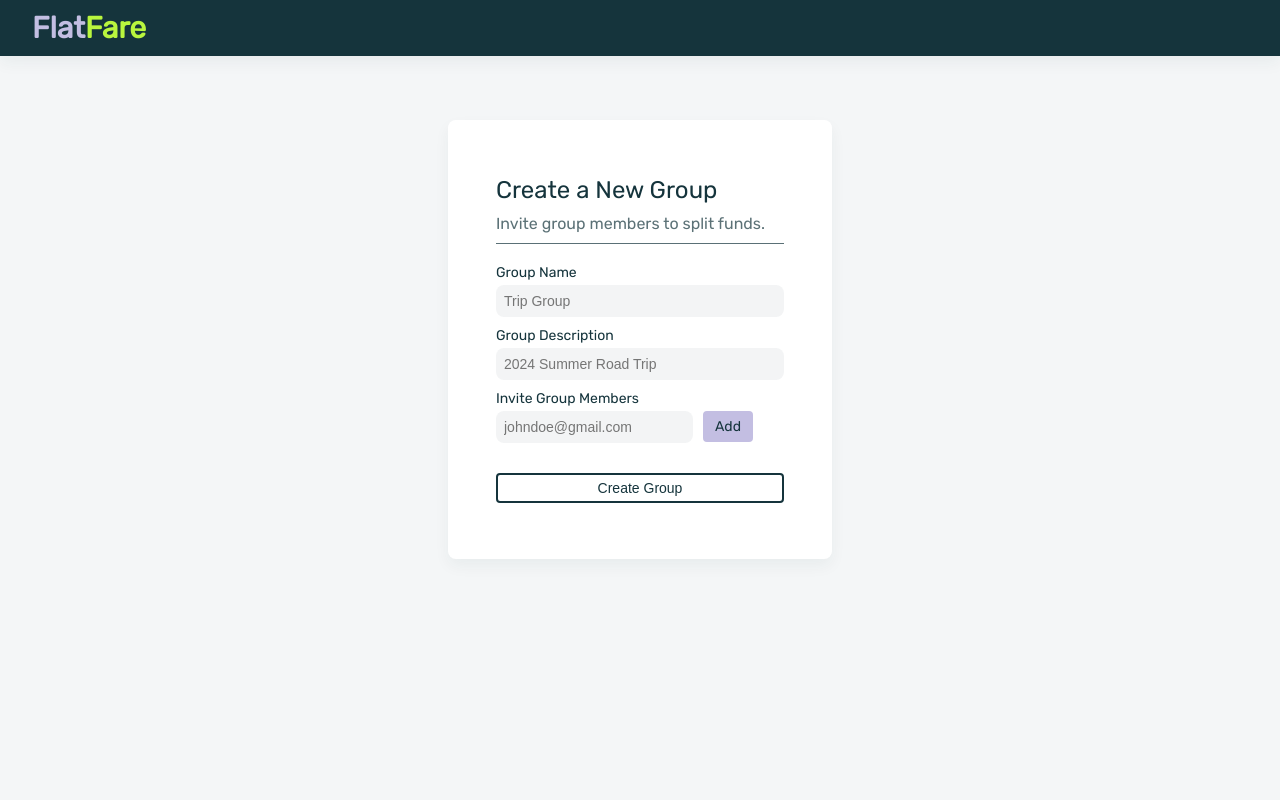
Test case: CreateGroup Component › handles multiple member additions and displays separator
// Add multiple members
Type "test1@example.com" into the field labelled "Invite Group Members" at (594, 427), box [496, 411, 693, 443]
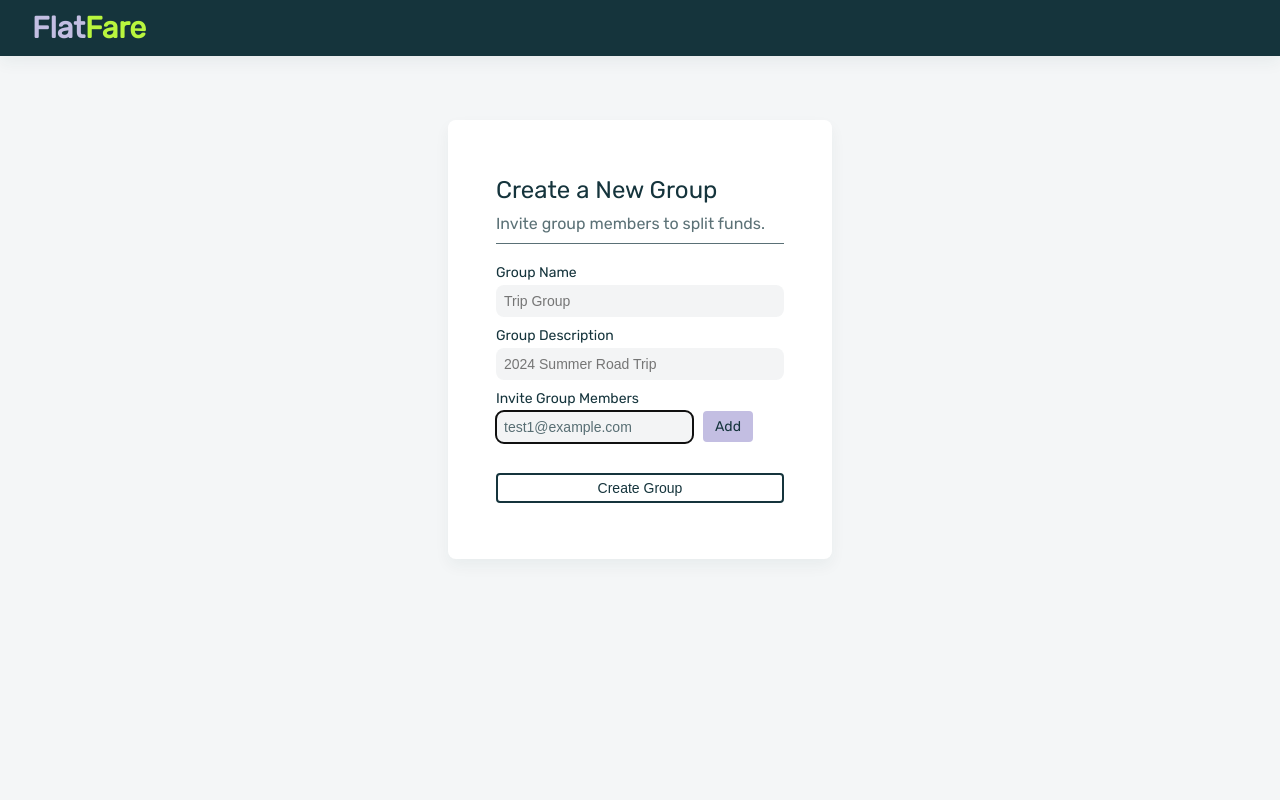
Click the button "Add" at (728, 426), box [703, 411, 753, 442]
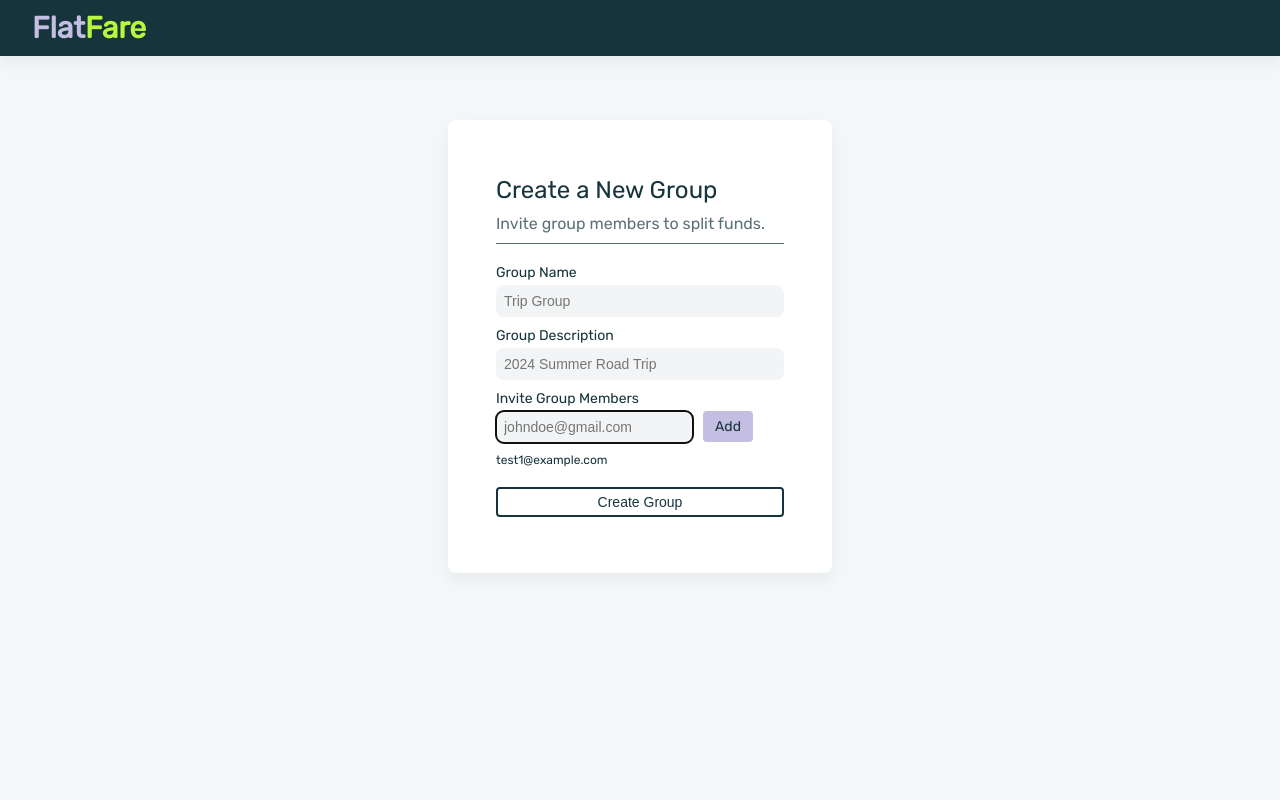
Type "test2@example.com" into the field labelled "Invite Group Members" at (594, 427), box [496, 411, 693, 443]
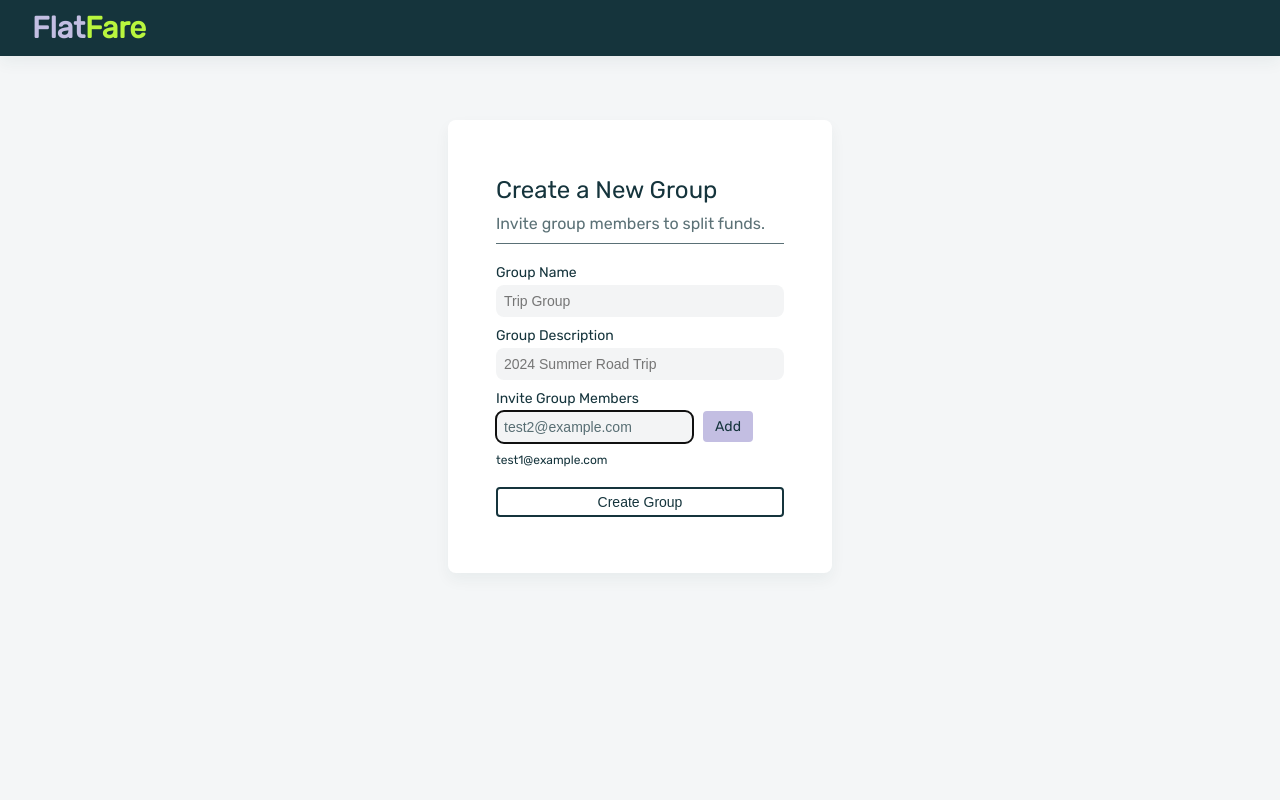
Click the button "Add" at (728, 426), box [703, 411, 753, 442]
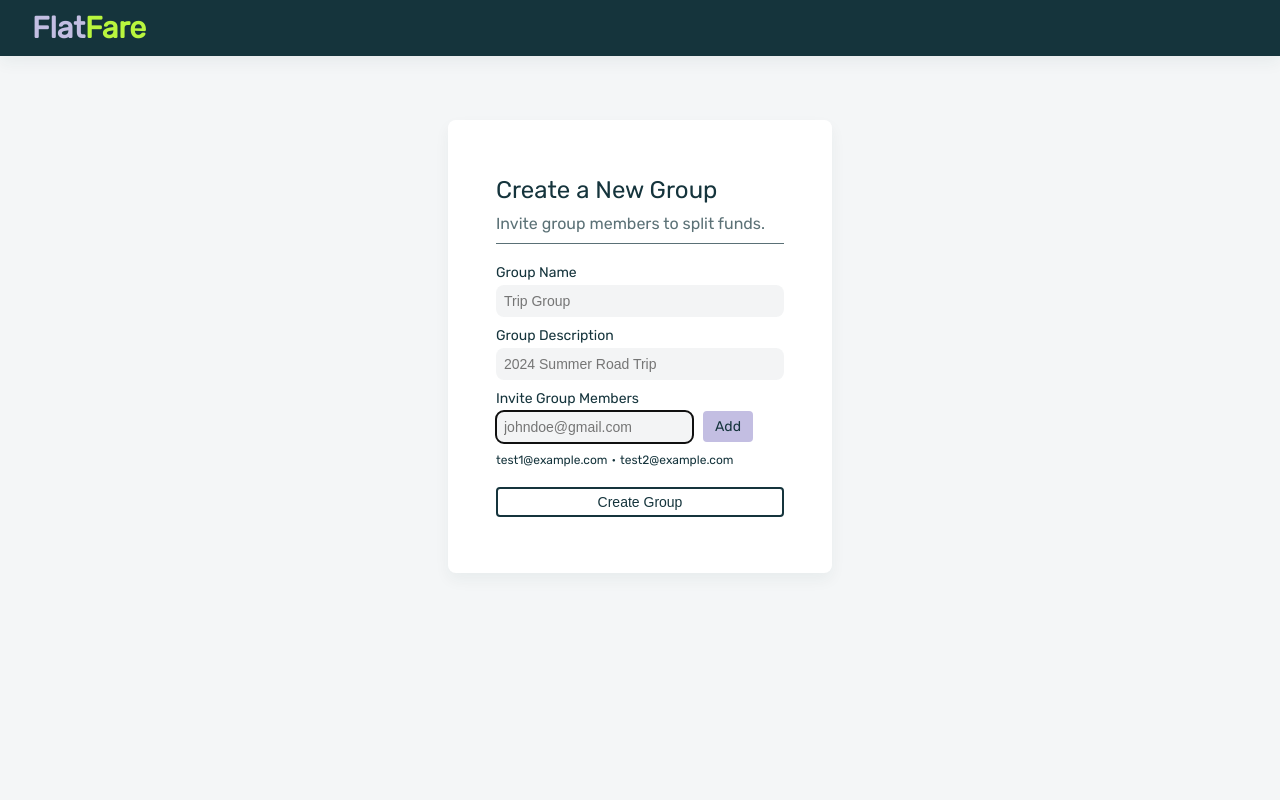
Expected: the text "•" is shown, [612, 453, 616, 467]
Now the text "test1@example.com" is shown, box [496, 453, 608, 467]
Now the text "test2@example.com" is shown, box [620, 453, 734, 467]
